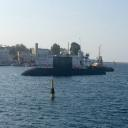submarine: (21, 58, 107, 76)
